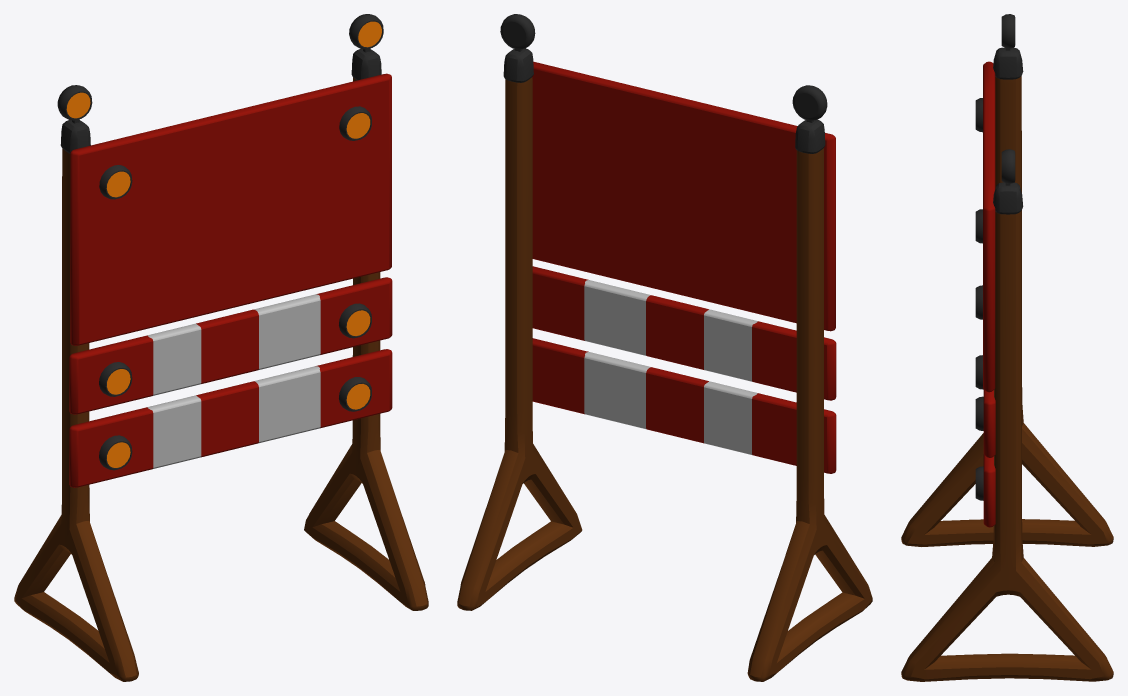
File: Valla Just Down.FBX
3 renders of one model, left to right at view 1: azimuth 30°, elevation 25°; view 2: azimuth 150°, elevation 25°; view 3: azimuth 270°, elevation 25°, orthographic. The views are drawn at different scales.
Visible parts, largest first — view 1: Object009, Box008, Object006, Object010, Object014, Object011, Object012, Object007, Pivote003; view 2: Object009, Box008, Object006, Object010, Object014, Pivote003; view 3: Box008, Object009, Pivote003, Object014, Object006, Object010, Object012, Object011, Object007.
Part boxes in pixels (x1,y1,x2,y2): Object009: [70, 73, 391, 345]; Box008: [14, 77, 428, 681]; Object006: [69, 349, 392, 487]; Object010: [69, 277, 392, 414]; Object014: [57, 14, 383, 123]; Object011: [99, 303, 371, 396]; Object012: [99, 377, 371, 470]; Object007: [99, 106, 371, 199]; Pivote003: [60, 49, 381, 153]; Object009: [532, 61, 835, 331]; Box008: [457, 77, 872, 681]; Object006: [532, 338, 836, 473]; Object010: [532, 266, 836, 400]; Object014: [500, 14, 827, 122]; Pivote003: [503, 48, 825, 153]; Box008: [901, 76, 1113, 681]; Object009: [983, 61, 995, 392]; Pivote003: [993, 47, 1023, 214]; Object014: [1001, 14, 1015, 185]; Object006: [983, 454, 995, 527]; Object010: [983, 390, 995, 457]; Object012: [975, 355, 983, 500]; Object011: [975, 285, 983, 430]; Object007: [975, 98, 982, 243].
Size of the model in its own units: 151 by 248 by 90.23.
